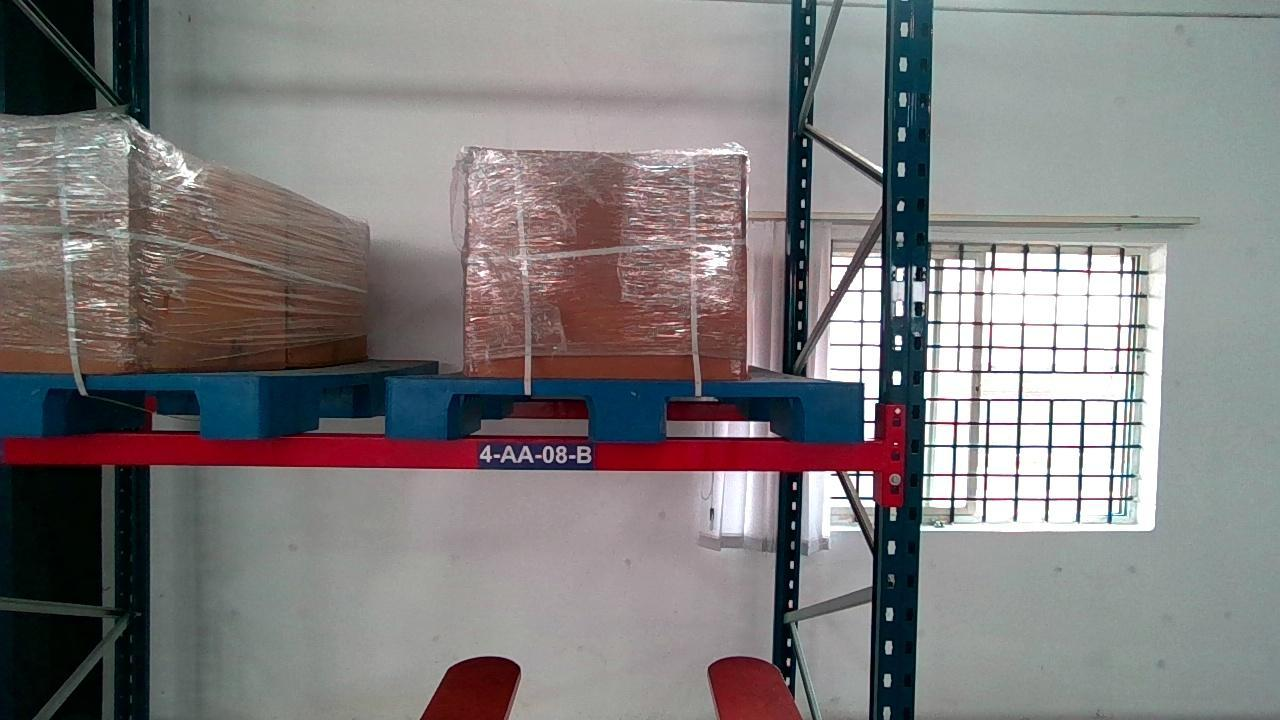h_rack: (2, 436, 879, 471)
small_pallet: (386, 380, 861, 437), (1, 370, 261, 434)
